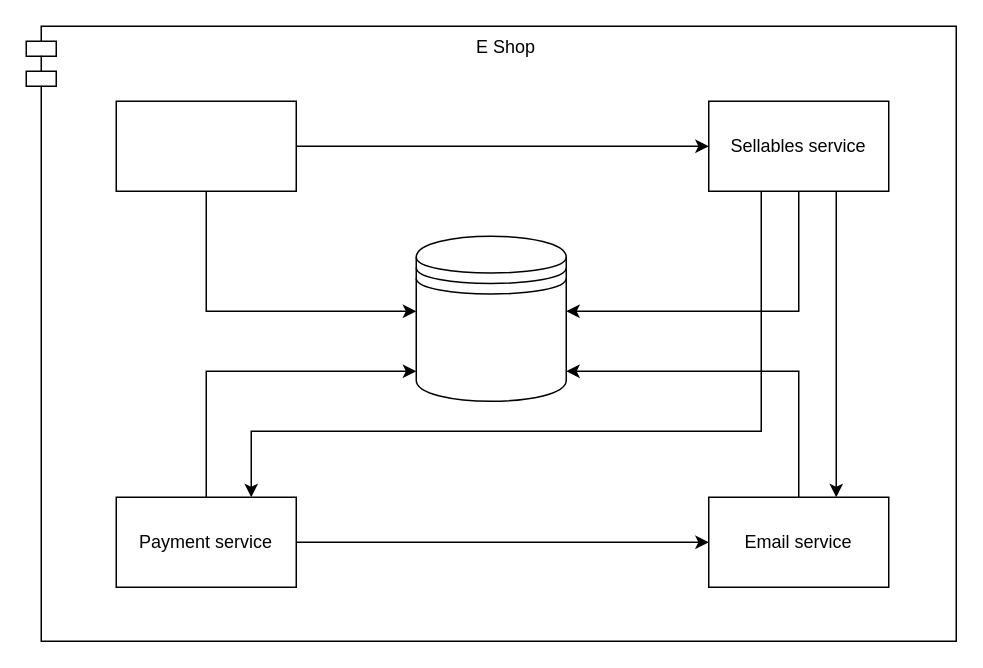
Some shapes in this 983 by 668 pixel diagram are drawn without their labels. The shapes that lost their labels are listed below. From the top down, each one's box as (x1, y1, x2, y2) in pixels, then its label:
(115, 100, 296, 191): Authentication
(415, 235, 566, 401): Data Store
